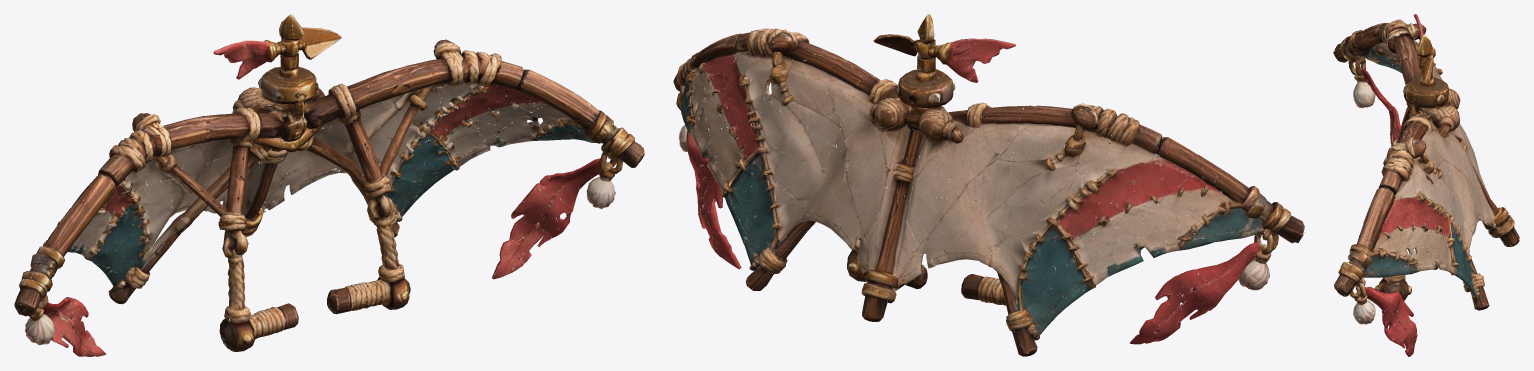
Rendered from glider.glb.
3 renders of one model, left to right at view 1: azimuth 30°, elevation 25°; view 2: azimuth 150°, elevation 25°; view 3: azimuth 270°, elevation 25°, orthographic. The views are drawn at different scales.
Visible parts, largest first — view 1: tripo_node_afafb9e7-606a-4145-b00d-11bac64ffec6; view 2: tripo_node_afafb9e7-606a-4145-b00d-11bac64ffec6; view 3: tripo_node_afafb9e7-606a-4145-b00d-11bac64ffec6.
Part boxes in pixels (bbox=[...]): tripo_node_afafb9e7-606a-4145-b00d-11bac64ffec6: bbox=[14, 14, 644, 356]; tripo_node_afafb9e7-606a-4145-b00d-11bac64ffec6: bbox=[673, 14, 1304, 356]; tripo_node_afafb9e7-606a-4145-b00d-11bac64ffec6: bbox=[1333, 14, 1519, 356].
Size of the model in its own units: 0.9806 by 0.4579 by 0.3172.
Materials: 1 (1 with a texture image).
